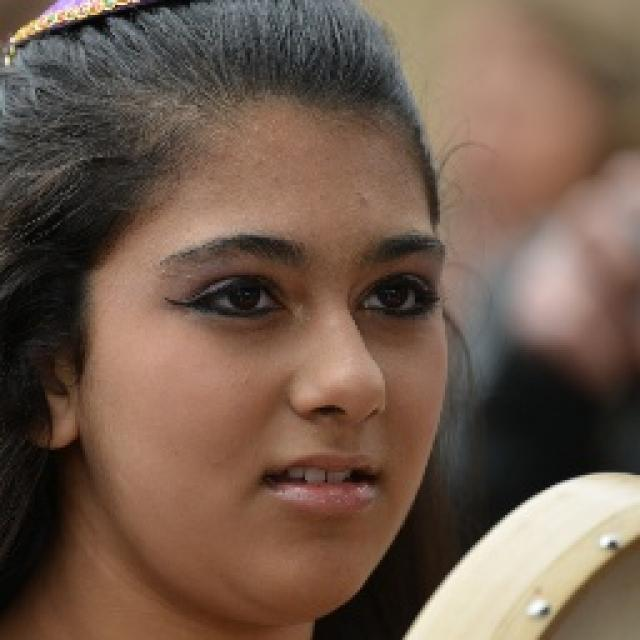earlobe: (30, 391, 76, 452)
eye: (188, 268, 288, 318), (357, 277, 437, 318)
nose: (288, 408, 383, 449)
wholeear: (4, 309, 75, 452)
